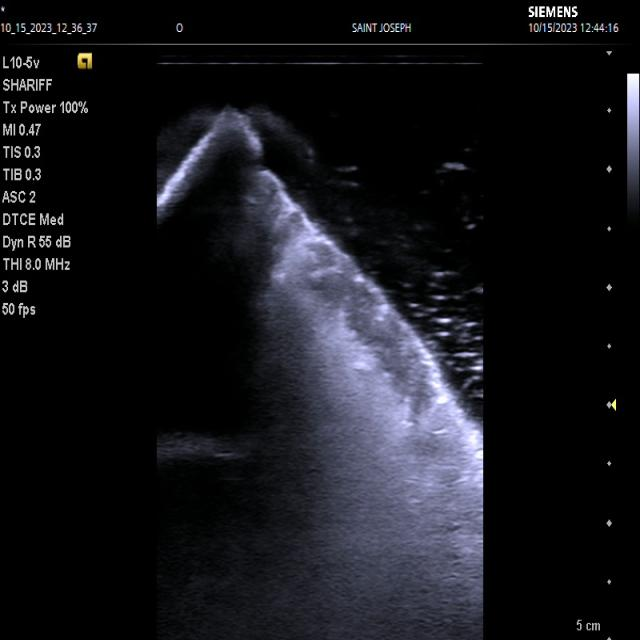tissue: (156, 109, 486, 640)
